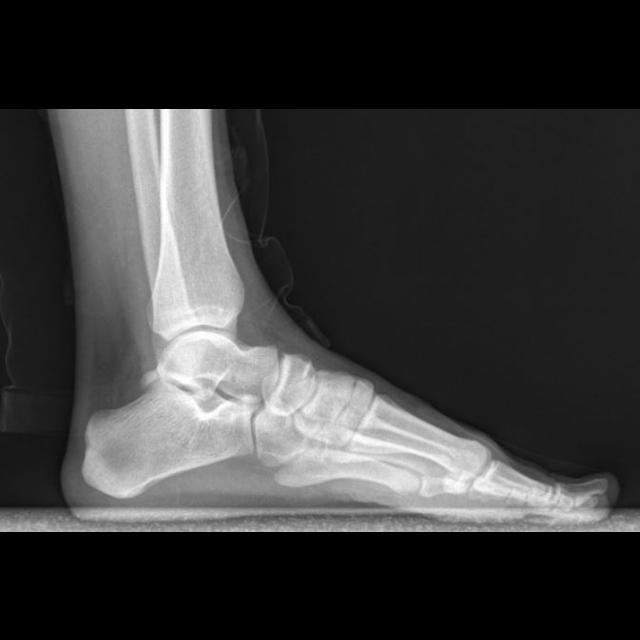a: (82, 378, 262, 499)
b: (266, 350, 316, 414)
c: (347, 393, 491, 481)
